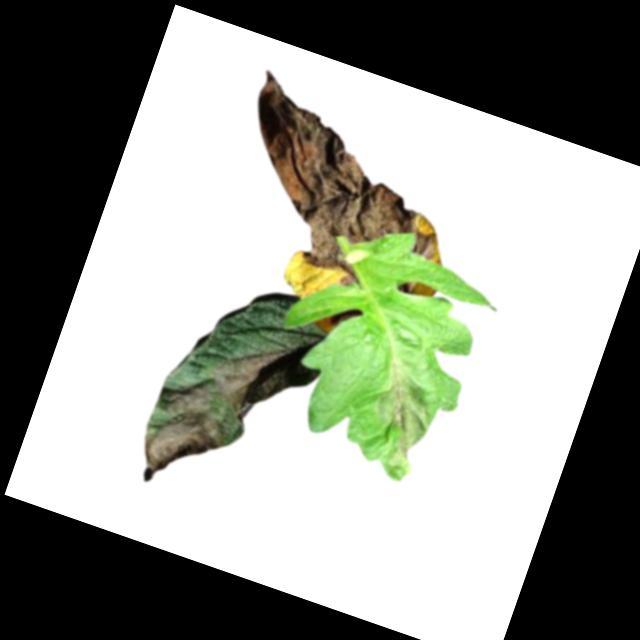Late_blight: (208, 73, 471, 307), (129, 376, 236, 504), (360, 362, 447, 476), (206, 330, 279, 416)
